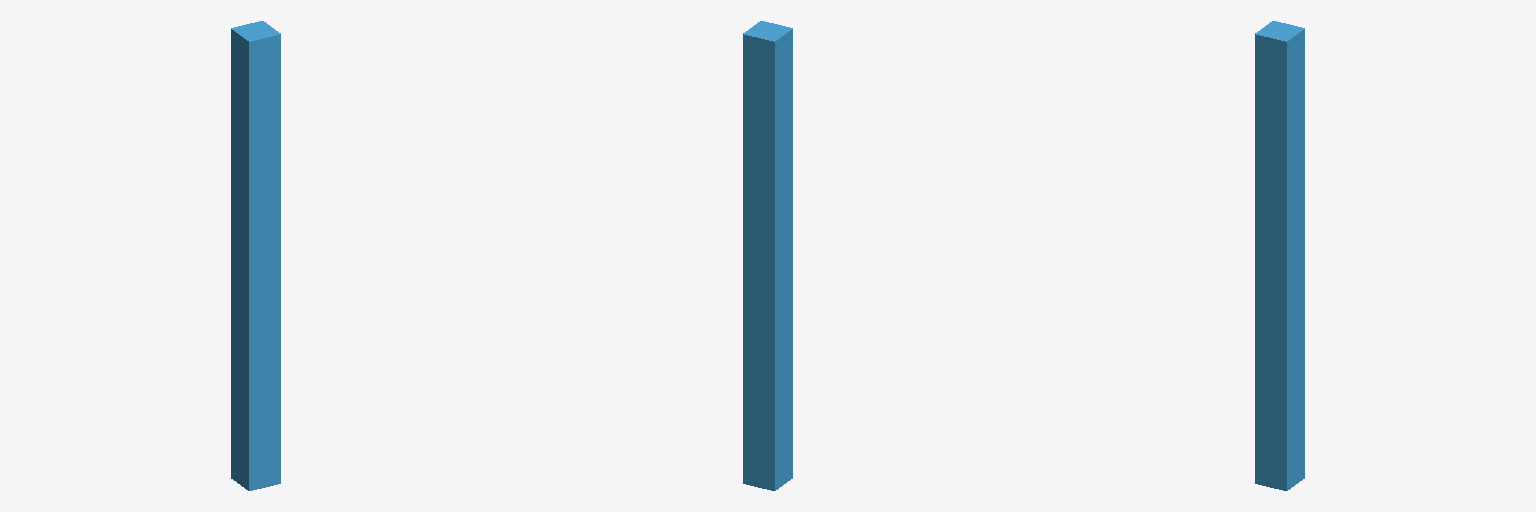
URDF robot description (camera_on_stand):
<?xml version="1.0"?>
<robot name="camera_on_stand">  

<link name ="world"/>
      <link name="stand">
          <visual>
                <geometry>
                  <box size="0.06 0.06 0.80"/>
                </geometry>
                <origin rpy="0 0 0" xyz="0 0 0.4"/>
                <material name="white"/>
              </visual>
              <inertial>
                  <mass value="0.1"/>
                  <inertia ixx="0.03" ixy="0.0" ixz="0.0" iyy="0.03" iyz="0.0" izz="0.03"/>
              </inertial>
          
        </link>
        <joint name="fixed_stand" type="fixed">
          <origin xyz="1.5 0 0" rpy="0 0 0"/>
              <parent link="world"/>
              <child link="stand"/>
        </joint>
        <link name="camera_link">
          <visual>
              <origin xyz="0 0 0" rpy="0 0 0"/>
               <geometry>
              
              
                <!-- <mesh scale="0.005 0.005 0.005" filename="package://vision_control/meshes/tripod/tripod.dae"/> -->
               <mesh filename="package://owi_35/meshes/kinect.dae"/>
               </geometry>
             </visual>
               <collision>
               <origin xyz="0.0 0.0 0.0" rpy="0 0 0"/>
                 <geometry>
                   <box size="0.1 0.1 0.1"/>
                 </geometry>
               </collision>
             <inertial>
               <mass value="0.5" />
               <origin xyz="0 0 0" />
               <inertia ixx="0.003881243" ixy="0.0" ixz="0.0"
                        iyy="0.000498940" iyz="0.0"
                        izz="0.003879257" />
             </inertial>
          
          </link>
  <joint name="fixed_camera" type="fixed">
          <origin xyz="-0.035 0 0.850" rpy="0 0 3.14159"/>
              <parent link="stand"/>
              <child link="camera_link"/>
        </joint>
          <link name="camera_link_optical"/>
          <joint name="camera_depth_optical_joint" type="fixed">
              <origin xyz="0 0 0.85" rpy="0 0 3.14"/>
                  <parent link="camera_link"/>
                  <child link="camera_link_optical"/>
            </joint>

    <gazebo reference="camera_link">
        <sensor type="camera" name="camera_s">
          <always_on>1</always_on>
          <visualize>true</visualize>
          <update_rate>30</update_rate>
          <camera name = "head">
            <horizontal_fov>1.4397198</horizontal_fov>
            <image>
              <width>800</width>
              <height>800</height>
              <format>R8G8B8</format>  <!--Changed format since channels were inverted, to go back, change to R8G8B8-->
            </image>
            <clip>
              <near>0.02</near>
              <far>300</far>
            </clip>
            <noise>   <!-- This does apparently nothing neither RGB nor depth-->
              <type>gaussian</type>
              <mean>0.0</mean>
              <stddev>0.0007</stddev>
          </noise>
          </camera>
      
          <plugin name="camera_controller" filename="libgazebo_ros_openni_kinect.so">
            
            <alwaysOn>true</alwaysOn>
            <updateRate>10.0</updateRate>
            <cameraName>camera_s</cameraName>
            <imageTopicName>image_raw</imageTopicName>
            <cameraInfoTopicName>camera_info</cameraInfoTopicName>
            <depthImageTopicName>/camera_link/camera/image_raw</depthImageTopicName>
         <depthImageInfoTopicName>/camera_link/depth/camera_info</depthImageInfoTopicName>
           <pointCloudTopicName>/camera_link/depth/points</pointCloudTopicName>
            <frameName>camera_link</frameName>
            <pointCloudCutoff>0.5</pointCloudCutoff>
         <pointCloudCutoffMax>3</pointCloudCutoffMax>
            <distortionK1>0</distortionK1>
            <distortionK2>0</distortionK2>
            <distortionK3>0</distortionK3>
            <distortionT1>0</distortionT1>
            <distortionT2>0</distortionT2>
            <CxPrime>0.0</CxPrime>
            <Cx>0.0</Cx>
            <Cy>0.0</Cy>
            <focalLength>0</focalLength>
            <hackBaseline>0.07</hackBaseline>
          </plugin>
        </sensor>
      </gazebo>

       



        <!-- <link name="table">
          <visual>
                <geometry>
                  <box size="0.5 0.5 0.08"/>
                </geometry>
                <origin rpy="0 0 0" xyz="0 0 0"/>
                <material name="white"/>
              </visual>
              <inertial>
                  <mass value="0.1"/>
                  <inertia ixx="0.03" ixy="0.0" ixz="0.0" iyy="0.03" iyz="0.0" izz="0.03"/>
              </inertial>
        </link>
        <joint name="fixed_table" type="fixed">
          <origin xyz="0 -1.5 0.4" rpy="0 0 0"/>
              <parent link="camera_link_optical"/>
              <child link="table"/>
        </joint> -->

        <gazebo reference="stand">
          <material>Gazebo/Black</material>
        </gazebo>
        <gazebo reference="camera_link">
          <material>Gazebo/Gray</material>
        </gazebo>


</robot>

--- Facts derived from the render (not from the file) ---
The picture shows the robot from 3 angles, left to right: view 1: azimuth 30°, elevation 25°; view 2: azimuth 150°, elevation 25°; view 3: azimuth 330°, elevation 25°; orthographic projection.
Model camera_on_stand with 4 links and 3 joints (3 fixed), rooted at world, posed every joint at zero.
Visible links, largest first — view 1: stand; view 2: stand; view 3: stand.
Boxes of the visible links, x1,y1,x2,y2 form: stand: [231, 21, 280, 490]; stand: [743, 21, 792, 490]; stand: [1255, 21, 1304, 490].
Bounding box of the posed robot: 0.06 × 0.06 × 0.8 m (x, y, z).
Meshes: 1 distinct files referenced, 0 mesh visuals loaded (none loaded); not drawn: 1 (reference not matched to a file when rendering).